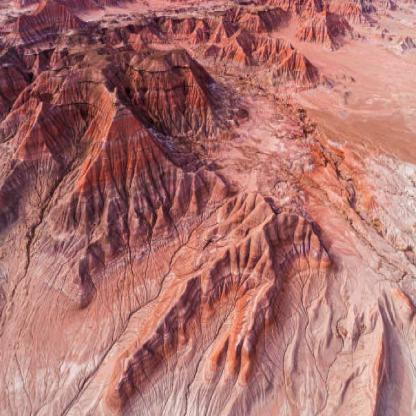Sedimentary_Sandstone: (117, 179, 285, 411), (40, 68, 184, 240), (92, 0, 248, 50), (0, 2, 68, 52), (293, 2, 345, 37)
